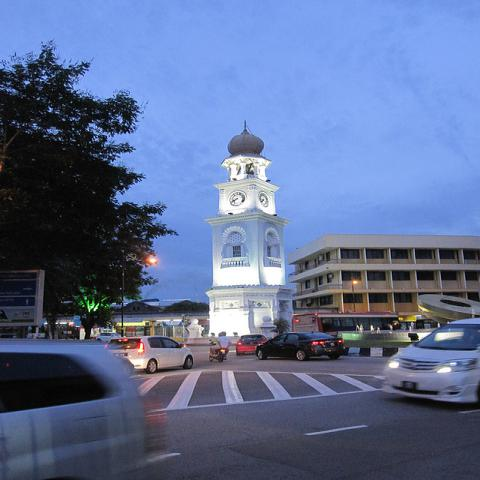bus: (291, 312, 400, 338)
car: (0, 341, 175, 473), (380, 316, 479, 404), (254, 332, 345, 363), (111, 339, 196, 370), (236, 334, 268, 356), (26, 332, 70, 340), (96, 333, 122, 342)
motorcycle: (209, 347, 229, 362)
